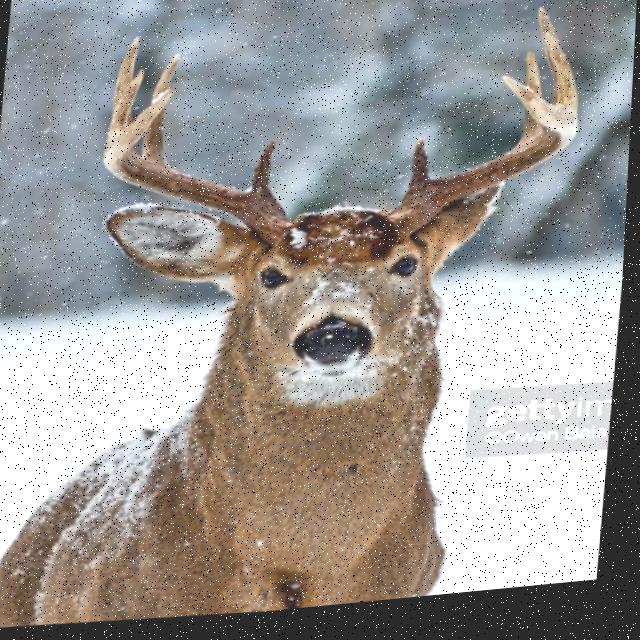L-F: (383, 85, 580, 244)
L-G1: (402, 145, 441, 210)
R-F: (103, 91, 308, 252)
R-G1: (248, 144, 279, 206)
